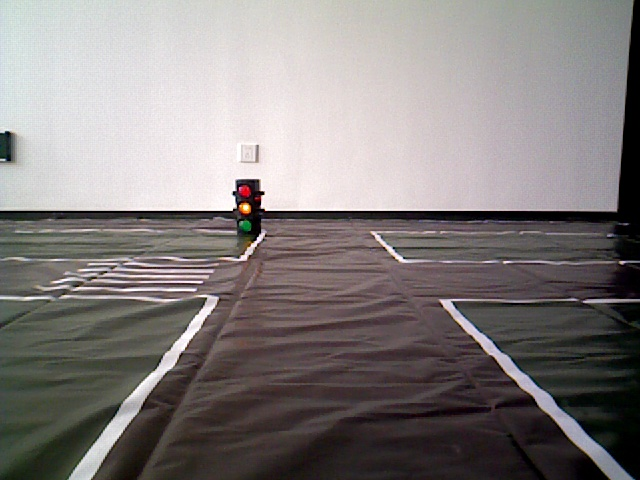yellow: (236, 183, 260, 236)
